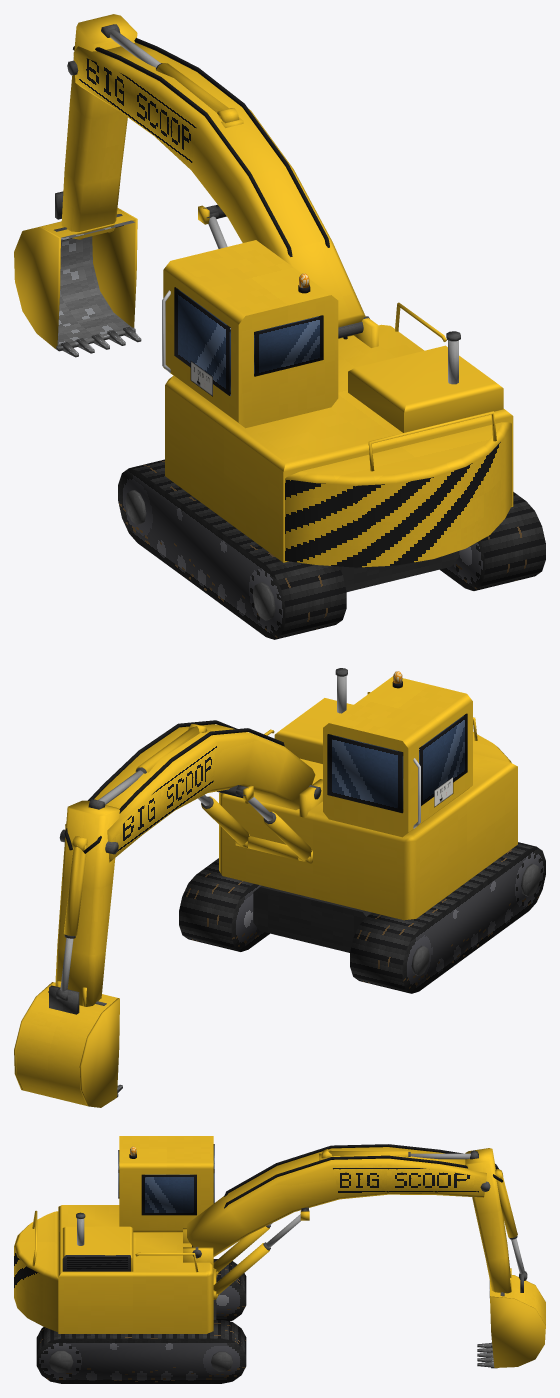
The model's file is p_excavator.glb.
3 renders of one model, top to bottom at view 1: azimuth 30°, elevation 25°; view 2: azimuth 150°, elevation 25°; view 3: azimuth 270°, elevation 25°, orthographic. The views are drawn at different scales.
Visible parts, largest first — view 1: excavator_lod0; view 2: excavator_lod0; view 3: excavator_lod0.
Part boxes in pixels (box(x1,y1,x2,y2)): excavator_lod0: box(14, 14, 545, 639); excavator_lod0: box(14, 668, 545, 1107); excavator_lod0: box(14, 1136, 545, 1383).
Size of what is drawn, in the model's own units: 3.49 by 4.12 by 9.59.
Materials: 3 (3 with a texture image).
